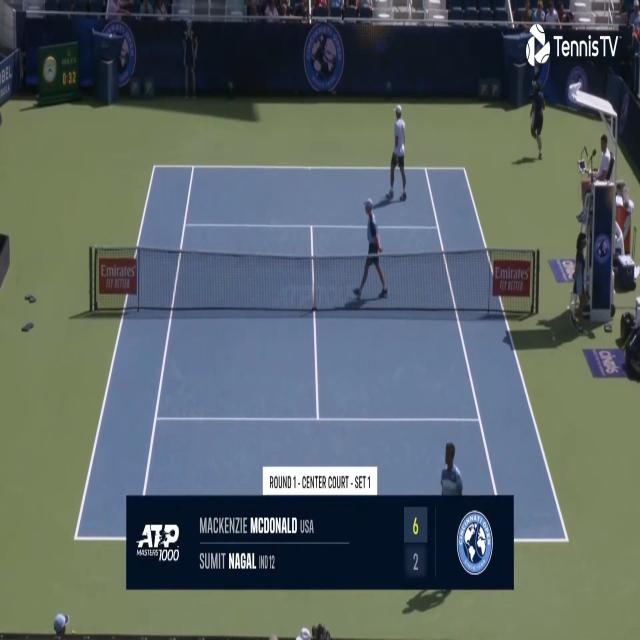tennis-player: (434, 437, 470, 601), (386, 100, 408, 203)
